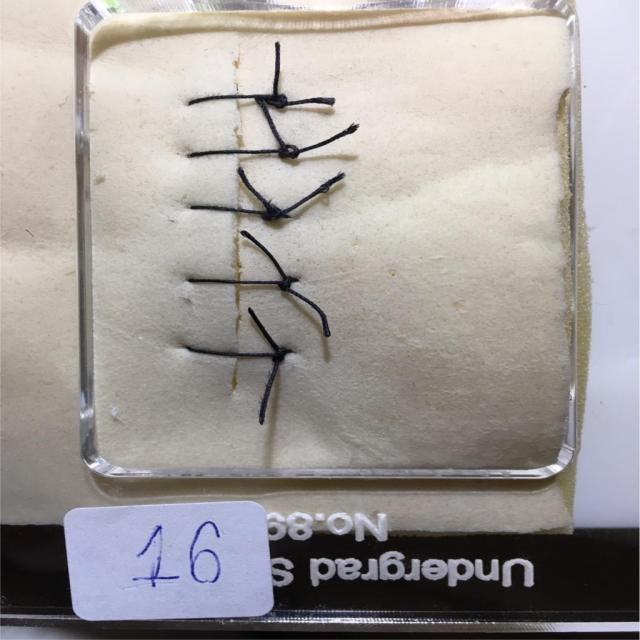knot: (261, 208, 282, 222), (279, 145, 300, 159), (267, 95, 288, 108), (279, 278, 294, 292), (274, 348, 289, 362)
leftover: (273, 171, 346, 217), (278, 279, 330, 340), (238, 228, 290, 283), (235, 165, 277, 216), (293, 122, 361, 153), (254, 96, 290, 153), (246, 305, 283, 355), (259, 351, 283, 427), (273, 96, 338, 105), (272, 39, 280, 100)
stitch: (187, 205, 293, 219), (184, 344, 295, 357), (185, 94, 289, 106), (186, 149, 301, 157), (185, 278, 301, 284)
wound: (229, 47, 244, 395)
